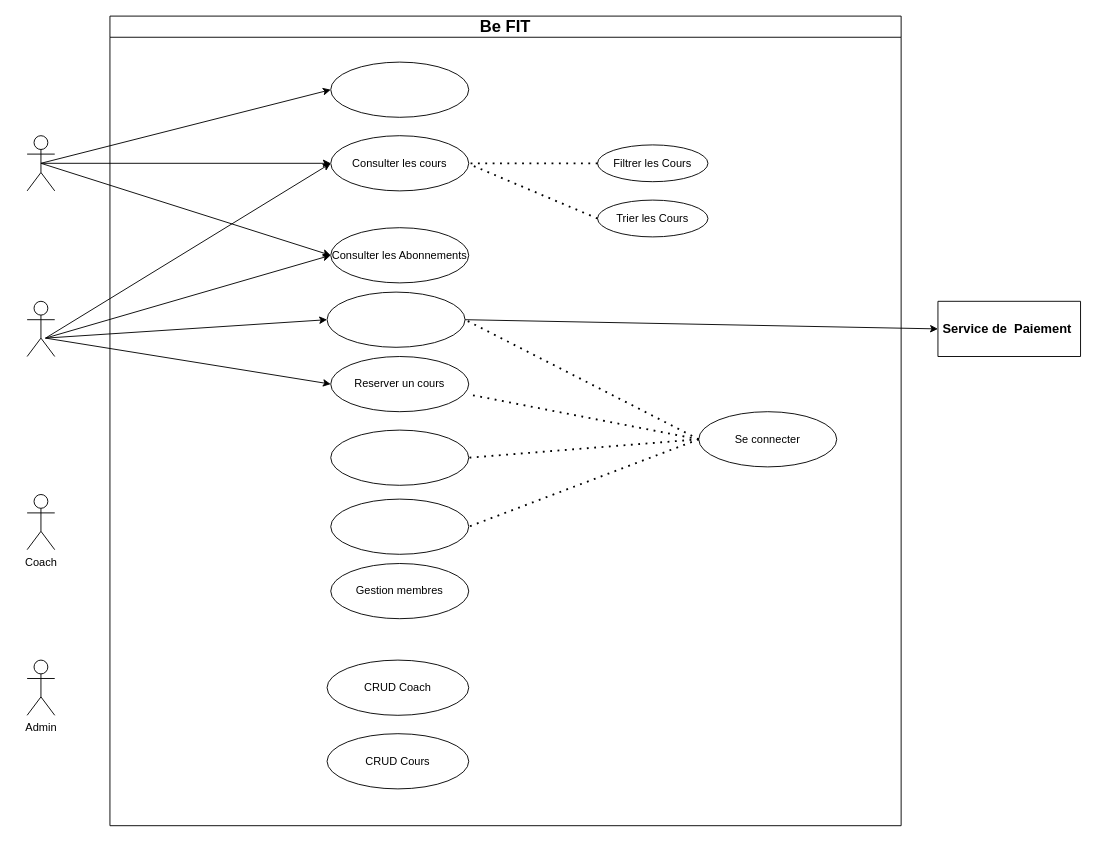
This 1097x842 diagram has some shape labels left out. Each missing label, with the centre of its shape:
Acheter un Abonnement: the point at 399,457
Approvisioer son compte: the point at 395,319
Internaute: the point at 40,163
Membre: the point at 40,328
Mofdifier son profil: the point at 399,526
S'inscrire: the point at 399,89
